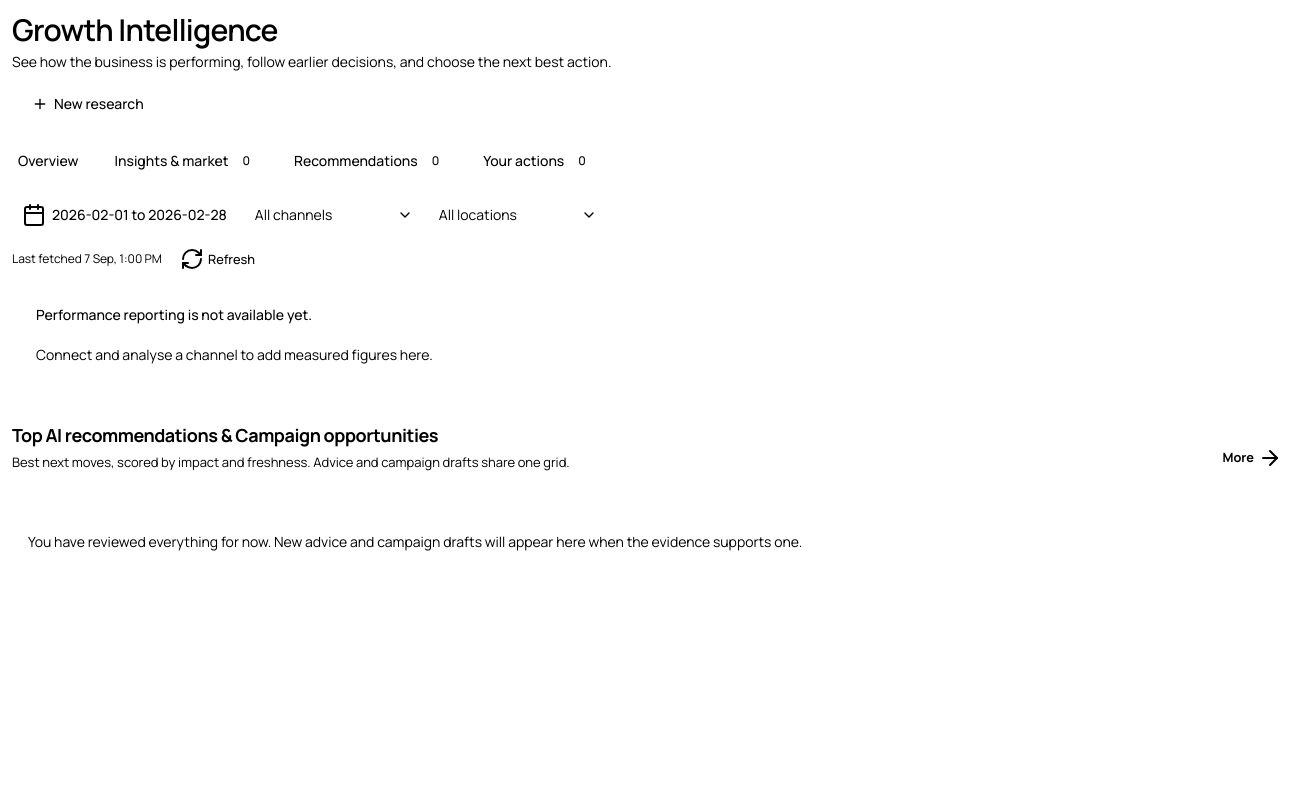
Scenario: GrowthIntelligenceWorkspace › shows the four plain-language tabs and navigates to the full sections
This screenshot has width=1292, height=812.
Expected: the tab "Overview" is shown, x1=12 y1=149 x2=84 y2=173
Expected: the tab "Recommendations 0" is shown, x1=288 y1=149 x2=453 y2=173
Click the tab "Insights & market 0" at (186, 161), box x1=108 y1=149 x2=264 y2=173
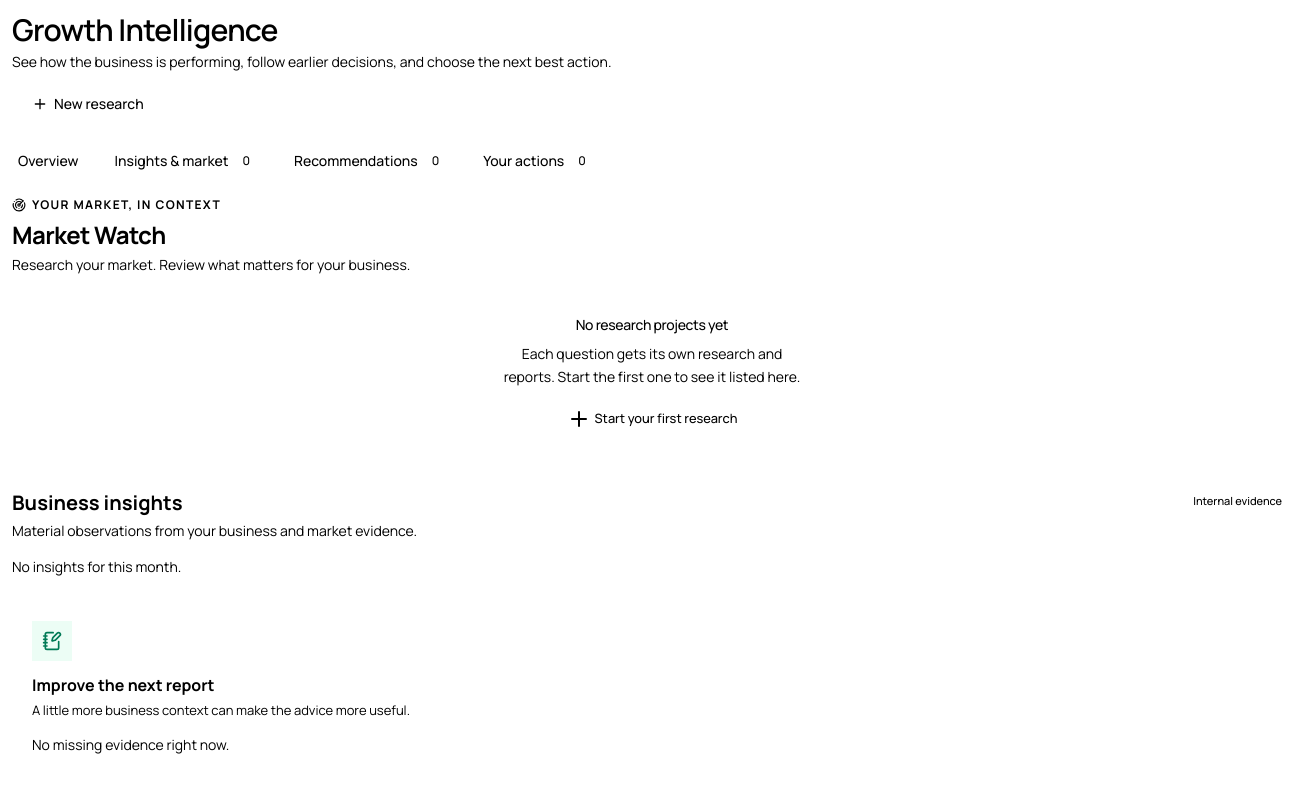
Expected: the element named "Market Watch projects" is shown, x1=12 y1=196 x2=800 y2=432
